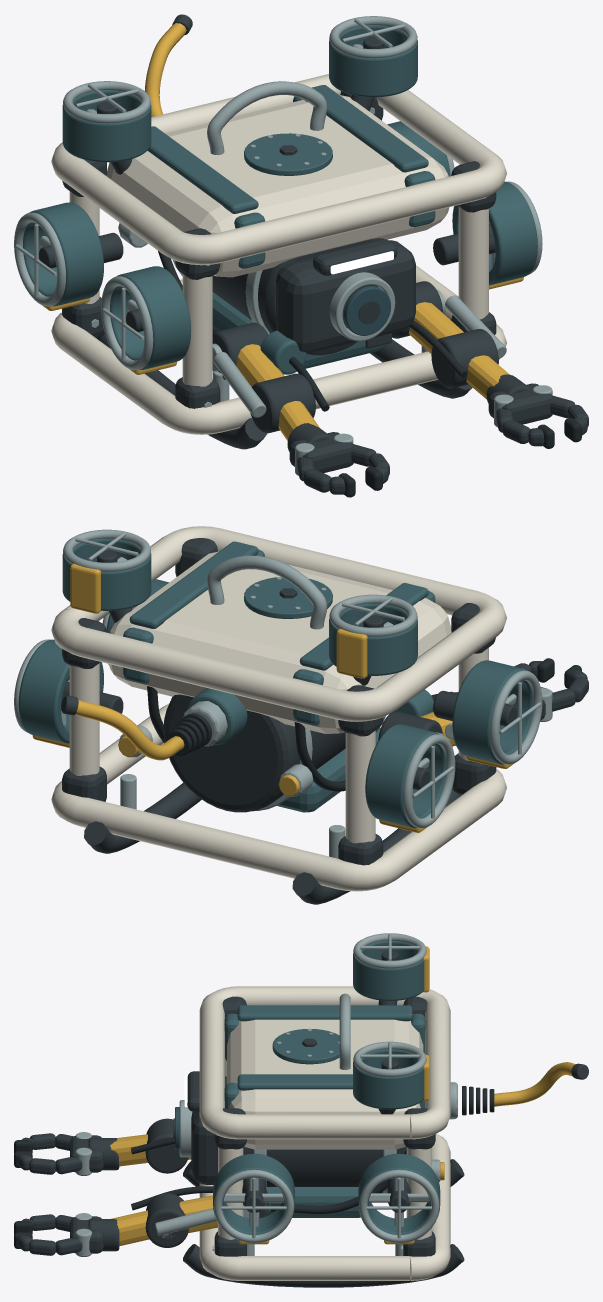
The model's file is underwater_service_robot.glb.
3 views of the same model, one above another, from view 1: azimuth 30°, elevation 25°; view 2: azimuth 150°, elevation 25°; view 3: azimuth 270°, elevation 25° (orthographic). The views are drawn at different scales.
Visible parts, largest first — view 1: Buoyancy.FoamShell, Cage.RoundedPerimeter_1.25, Cage.RoundedPerimeter_0.24, Camera.HeadHousing, HorizontalThruster_-1_0.48.Duct, HorizontalThruster_-1_-0.46.Duct, VerticalThruster_-1.Duct, VerticalThruster_1.Duct, HorizontalThruster_1_-0.46.Duct, Cage.CornerPost_0.86_-0.61, Buoyancy.StrapTop_-0.53, Buoyancy.StrapTop_0.53 (+38 smaller); view 2: Cage.RoundedPerimeter_1.25, Buoyancy.FoamShell, Cage.RoundedPerimeter_0.24, PressureHousing.Central, HorizontalThruster_-1_-0.46.Duct, HorizontalThruster_-1_0.48.Duct, HorizontalThruster_1_0.48.Duct, VerticalThruster_1.Duct, VerticalThruster_-1.Duct, Cage.CornerPost_0.86_0.61, Cage.CornerPost_-0.86_0.61, Buoyancy.StrapTop_0.53 (+33 smaller); view 3: Cage.RoundedPerimeter_1.25, Buoyancy.FoamShell, Cage.RoundedPerimeter_0.24, PressureHousing.Central, VerticalThruster_-1.Duct, VerticalThruster_1.Duct, Buoyancy.StrapTop_-0.53, HorizontalThruster_1_0.48.Duct, HorizontalThruster_1_-0.46.Duct, Buoyancy.AccessPlate, LandingSkid_0.65, HorizontalThruster_1_0.48.FrontRim (+29 smaller).
Part boxes in pixels (bbox=[...]): Buoyancy.FoamShell: bbox=[106, 95, 449, 277]; Cage.RoundedPerimeter_1.25: bbox=[51, 74, 506, 265]; Cage.RoundedPerimeter_0.24: bbox=[51, 265, 506, 434]; Camera.HeadHousing: bbox=[276, 240, 415, 353]; HorizontalThruster_-1_0.48.Duct: bbox=[23, 202, 103, 306]; HorizontalThruster_-1_-0.46.Duct: bbox=[110, 266, 191, 369]; VerticalThruster_-1.Duct: bbox=[62, 90, 151, 162]; VerticalThruster_1.Duct: bbox=[329, 25, 417, 97]; HorizontalThruster_1_-0.46.Duct: bbox=[452, 181, 537, 285]; Cage.CornerPost_0.86_-0.61: bbox=[458, 207, 488, 319]; Buoyancy.StrapTop_-0.53: bbox=[147, 126, 258, 213]; Buoyancy.StrapTop_0.53: bbox=[303, 85, 428, 172]; Cage.RoundedPerimeter_1.25: bbox=[51, 526, 506, 721]; Buoyancy.FoamShell: bbox=[109, 551, 451, 733]; Cage.RoundedPerimeter_0.24: bbox=[51, 703, 506, 891]; PressureHousing.Central: bbox=[163, 694, 345, 812]; HorizontalThruster_-1_-0.46.Duct: bbox=[452, 660, 533, 764]; HorizontalThruster_-1_0.48.Duct: bbox=[365, 724, 446, 827]; HorizontalThruster_1_0.48.Duct: bbox=[18, 639, 103, 743]; VerticalThruster_1.Duct: bbox=[62, 538, 151, 610]; VerticalThruster_-1.Duct: bbox=[329, 603, 417, 675]; Cage.CornerPost_0.86_0.61: bbox=[69, 663, 99, 775]; Cage.CornerPost_-0.86_0.61: bbox=[345, 730, 375, 843]; Buoyancy.StrapTop_0.53: bbox=[129, 541, 258, 628]; Cage.RoundedPerimeter_1.25: bbox=[199, 986, 450, 1139]; Buoyancy.FoamShell: bbox=[227, 1014, 423, 1149]; Cage.RoundedPerimeter_0.24: bbox=[199, 1133, 450, 1280]; PressureHousing.Central: bbox=[243, 1147, 406, 1193]; VerticalThruster_-1.Duct: bbox=[353, 940, 424, 1000]; VerticalThruster_1.Duct: bbox=[353, 1049, 424, 1109]; Buoyancy.StrapTop_-0.53: bbox=[237, 1005, 412, 1021]; HorizontalThruster_1_0.48.Duct: bbox=[358, 1153, 440, 1234]; HorizontalThruster_1_-0.46.Duct: bbox=[213, 1153, 294, 1234]; Buoyancy.AccessPlate: bbox=[272, 1029, 339, 1064]; LandingSkid_0.65: bbox=[183, 1244, 464, 1287]; HorizontalThruster_1_0.48.FrontRim: bbox=[359, 1169, 439, 1242].
Size of the model in its own units: 2.49 by 1.74 by 3.72.
